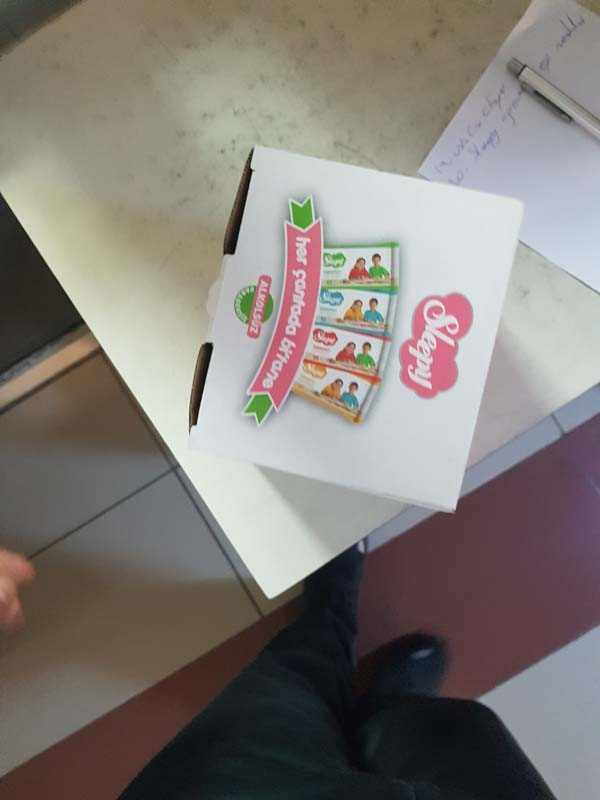sleepyogrencikoli: (185, 138, 534, 522)
